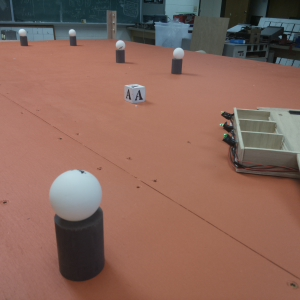blockA: (122, 82, 148, 105)
corner: (105, 9, 119, 39)
obstacle: (48, 166, 116, 286), (168, 46, 186, 77), (113, 41, 127, 63), (18, 28, 31, 48), (66, 28, 78, 45)
side: (216, 104, 267, 180)
